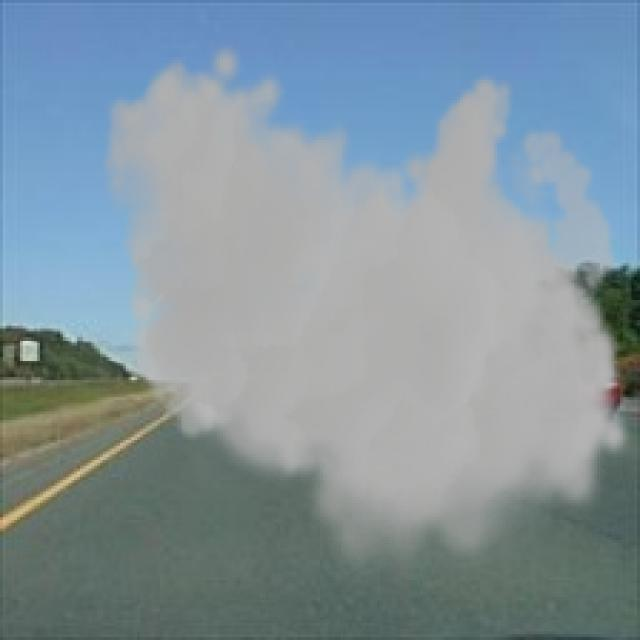smoke: (100, 40, 634, 580)
